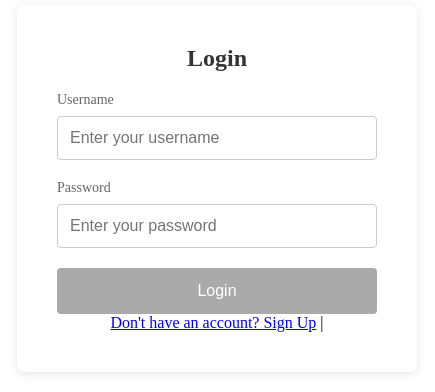
Login Functionality › cypress-studio.spec.js
Expected: the button "Login" is disabled, x1=57 y1=268 x2=377 y2=314
Step 1. Click the password field labelled "Password" → (217, 226), box x1=57 y1=204 x2=377 y2=248
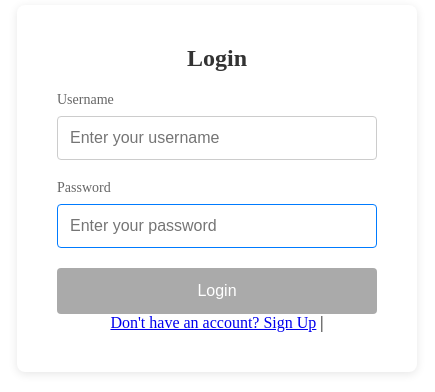
Step 2. Type "student1" into the field with id "username" → (217, 138), box x1=57 y1=116 x2=377 y2=160
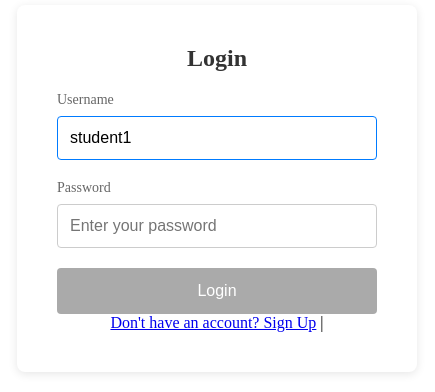
Step 3. Type "password123" into the password field labelled "Password" → (217, 226), box x1=57 y1=204 x2=377 y2=248
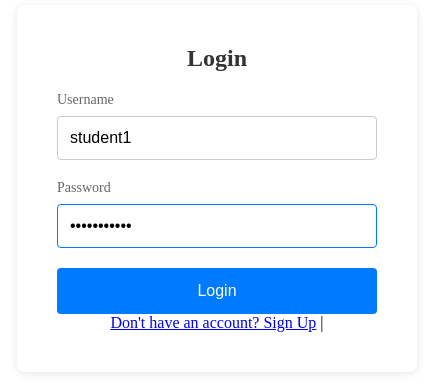
Result: the button "Login" is enabled at x1=57 y1=268 x2=377 y2=314
